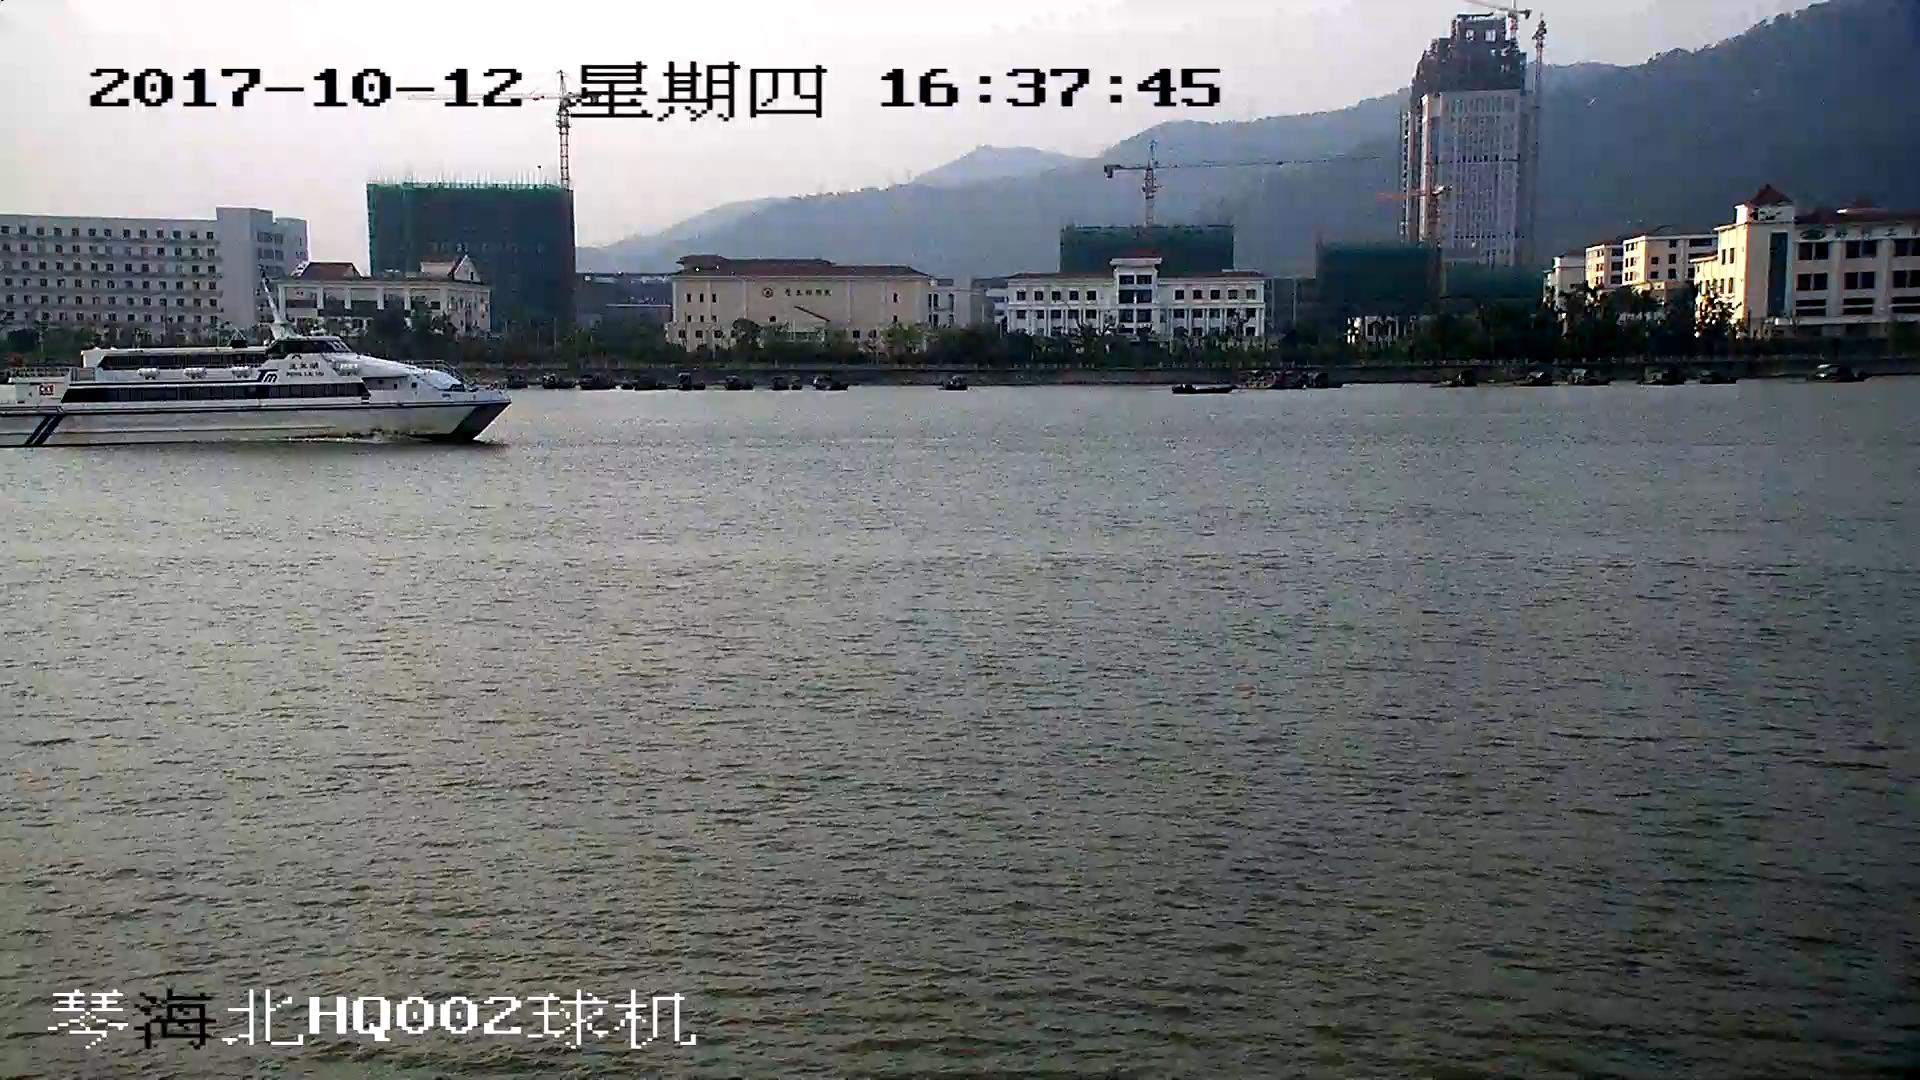passenger ship: (1, 292, 520, 446)
